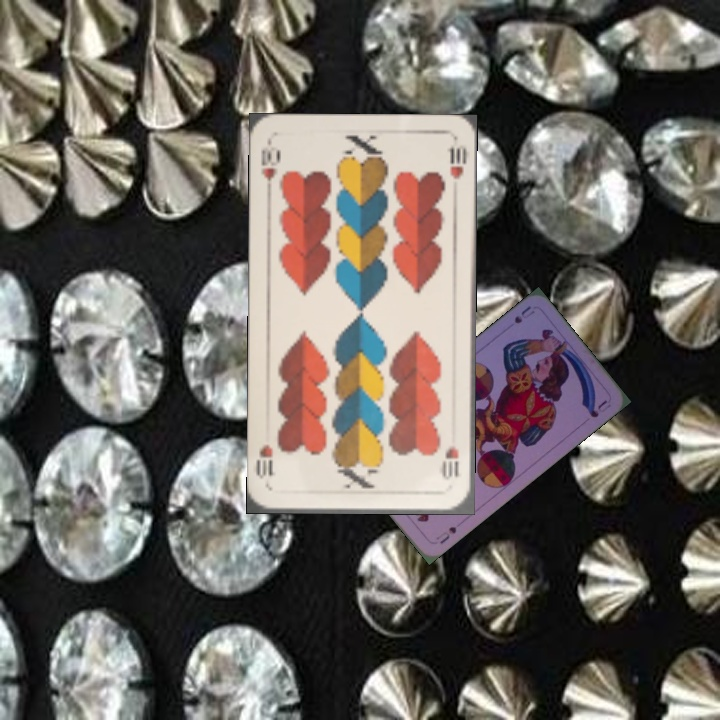H10: (257, 145, 283, 184), (439, 442, 462, 482)
SU: (510, 302, 537, 326), (432, 522, 459, 546)
